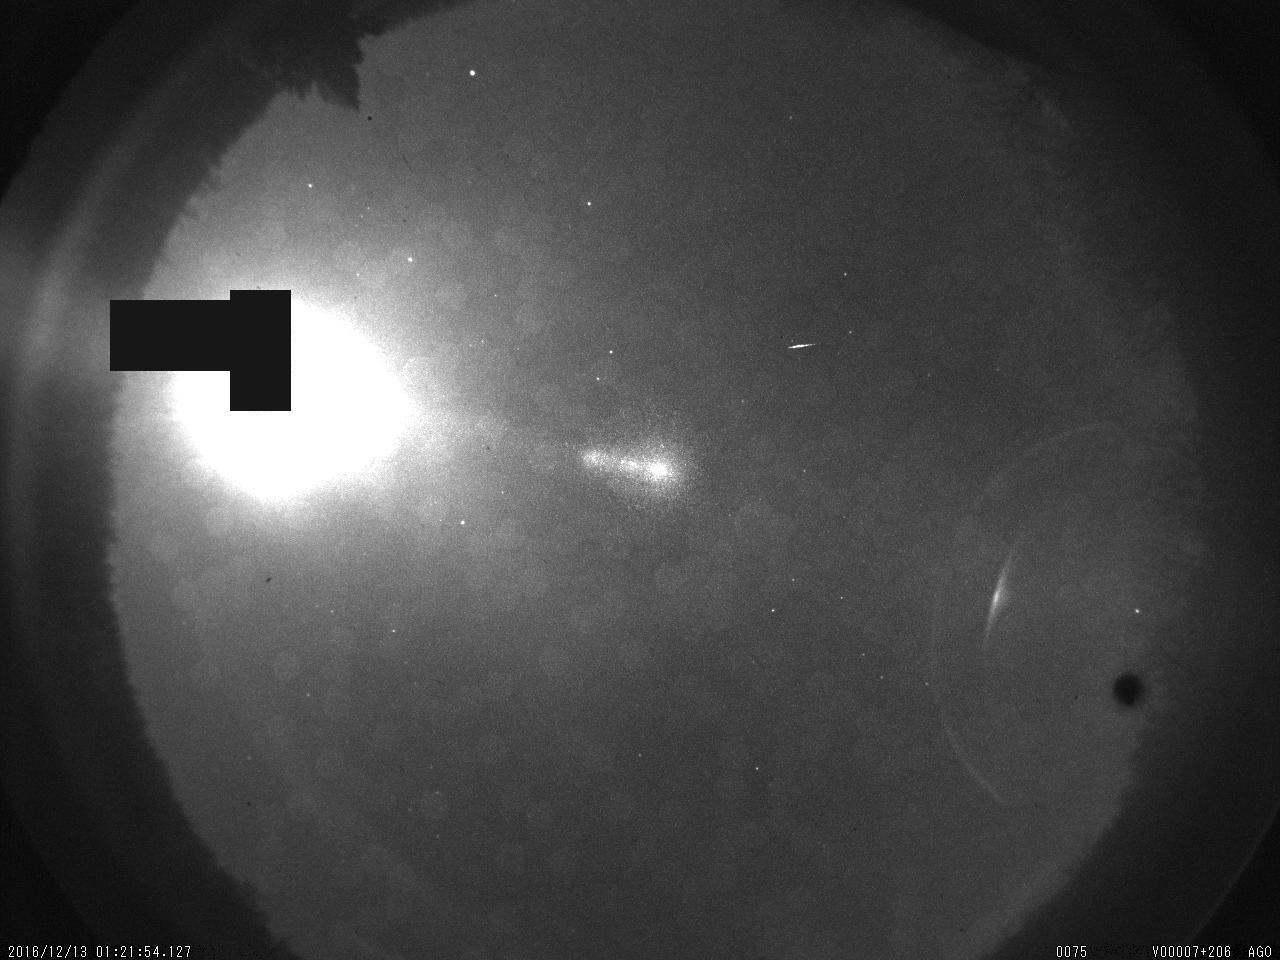meteor: (781, 333, 823, 357)
